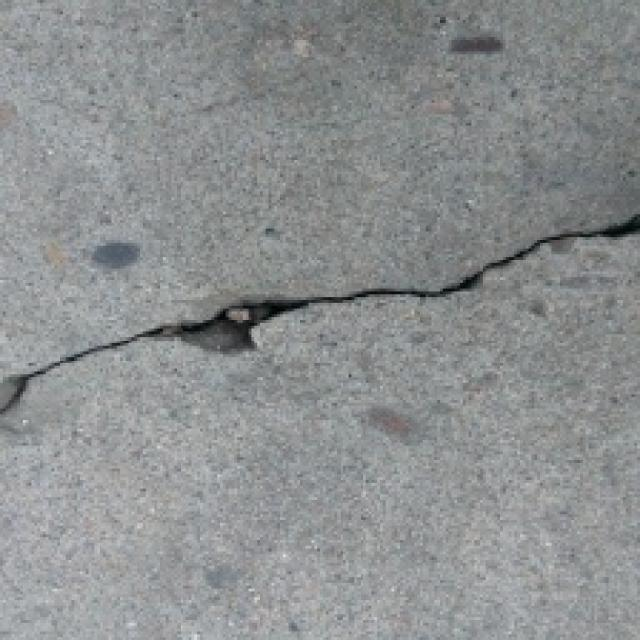crack: (0, 190, 640, 430)
